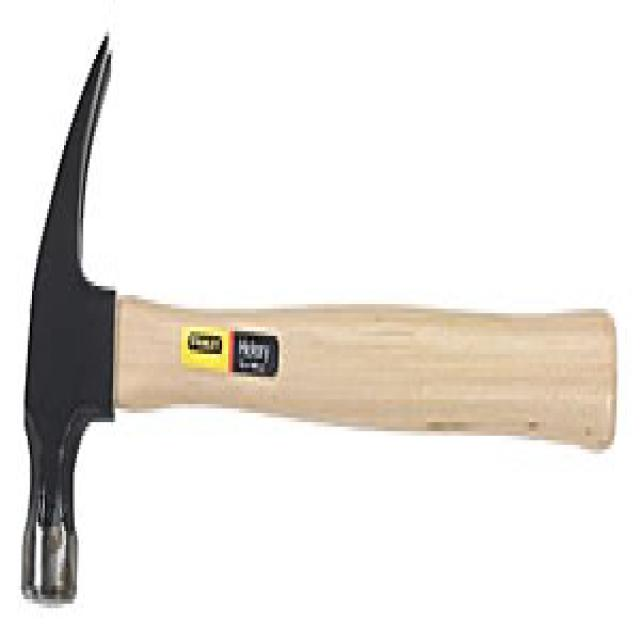hammer: (20, 0, 640, 611)
